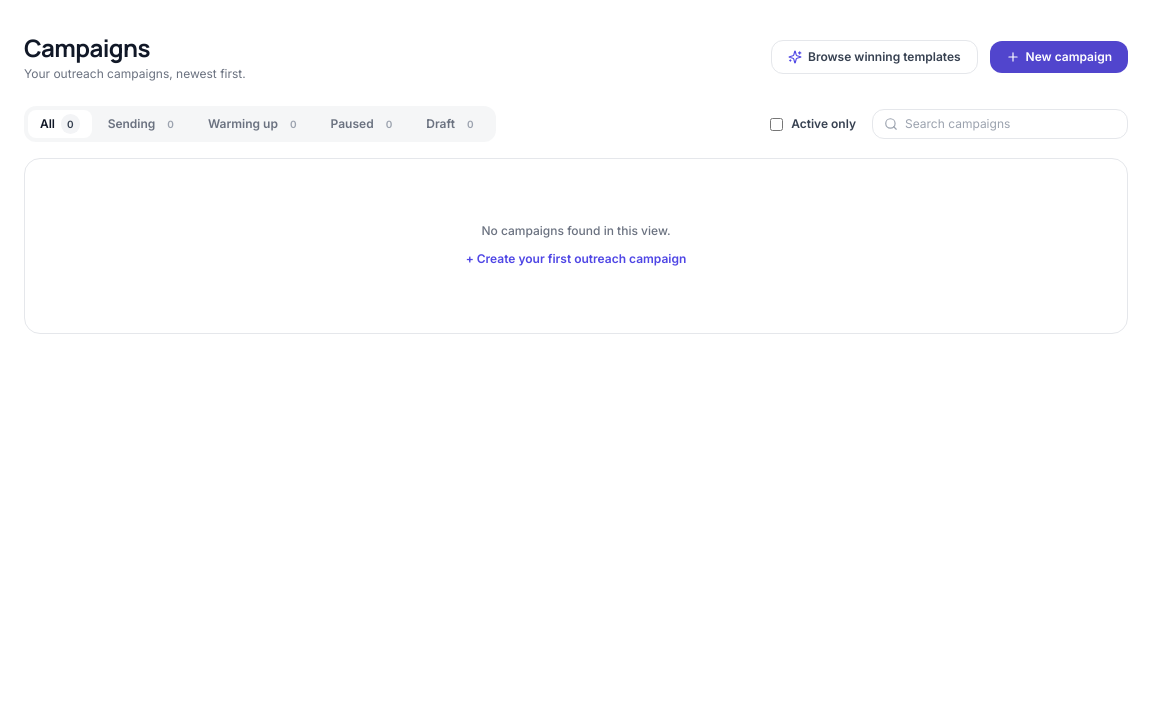
Test case: failed catalog after confirmed original receipt exposes Retry with no stale actions
Click the button "Browse winning templates" at (874, 57), box [771,40,978,74]
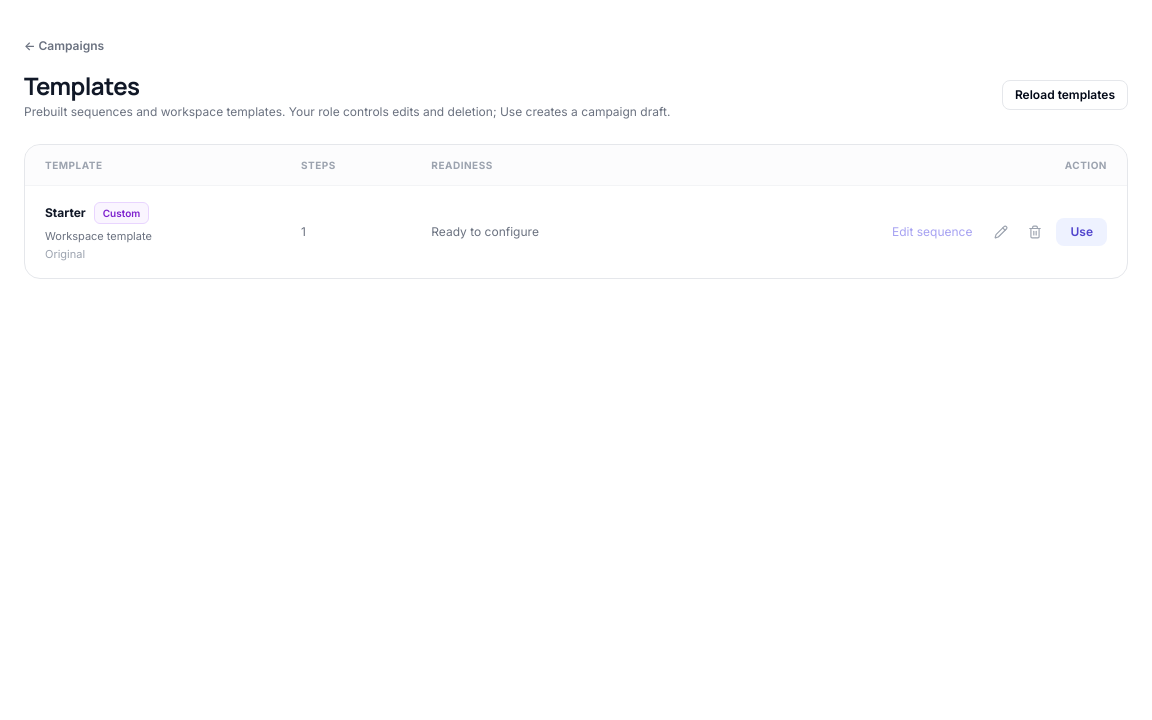
Click the button named "Edit template details Starter" at (1002, 232), box [988,219,1014,245]
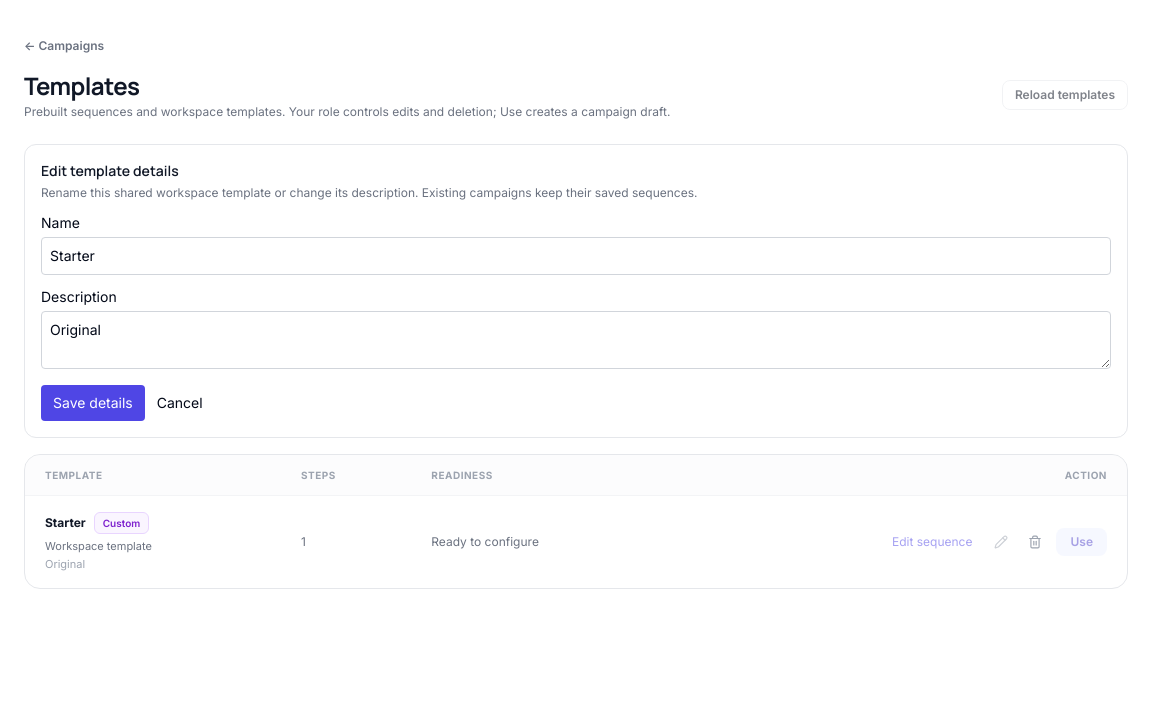
Click the button "Save details" at (93, 403), box [41,385,145,421]
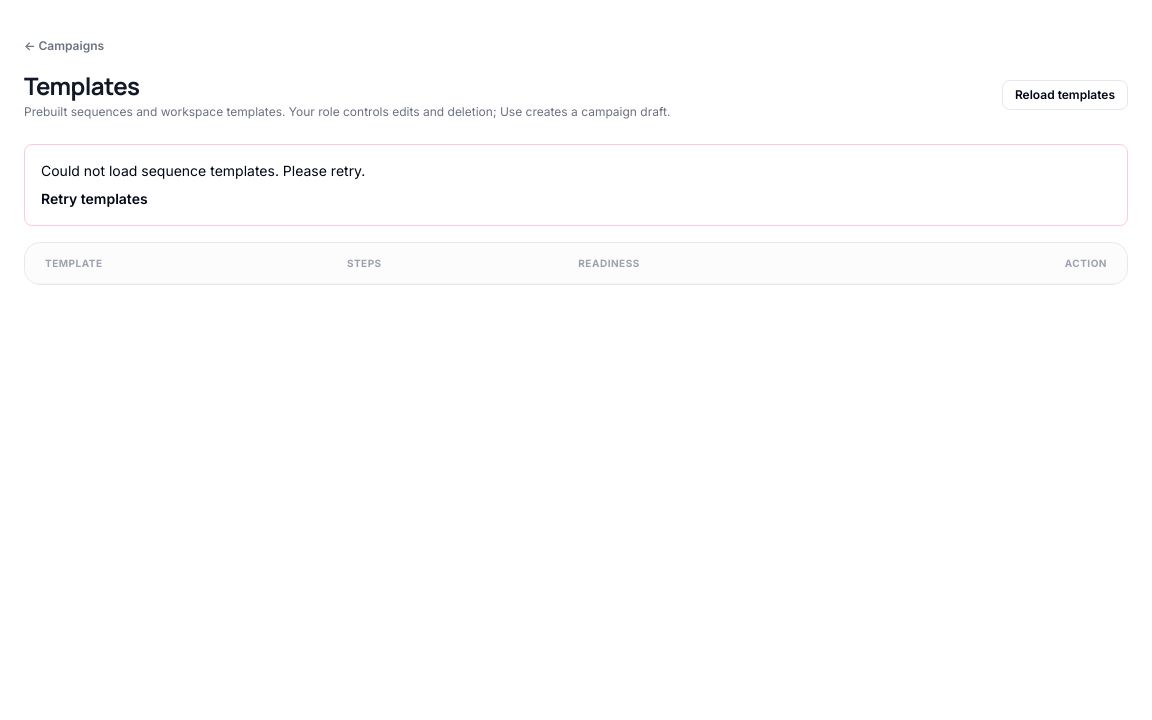
Result: the button "Retry templates" is shown at [41,189,148,209]
